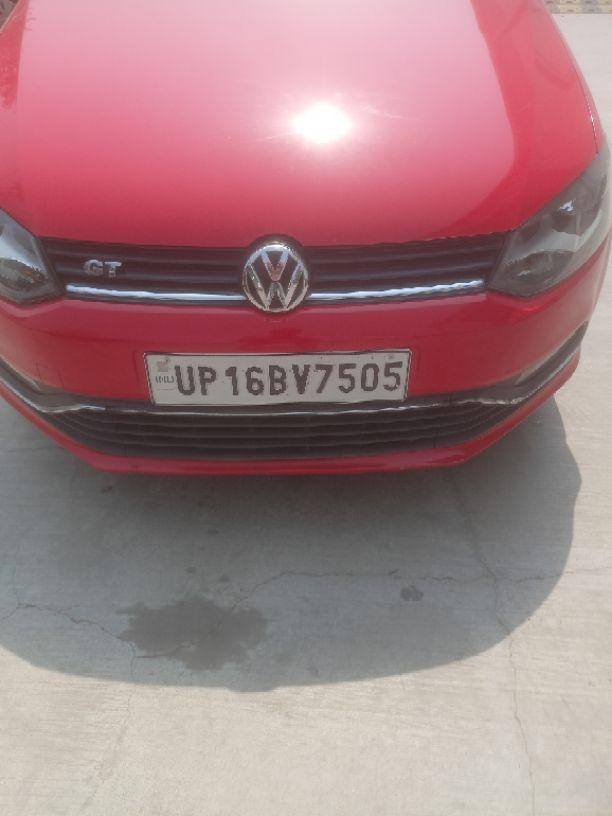license_plate: (142, 347, 411, 407)
